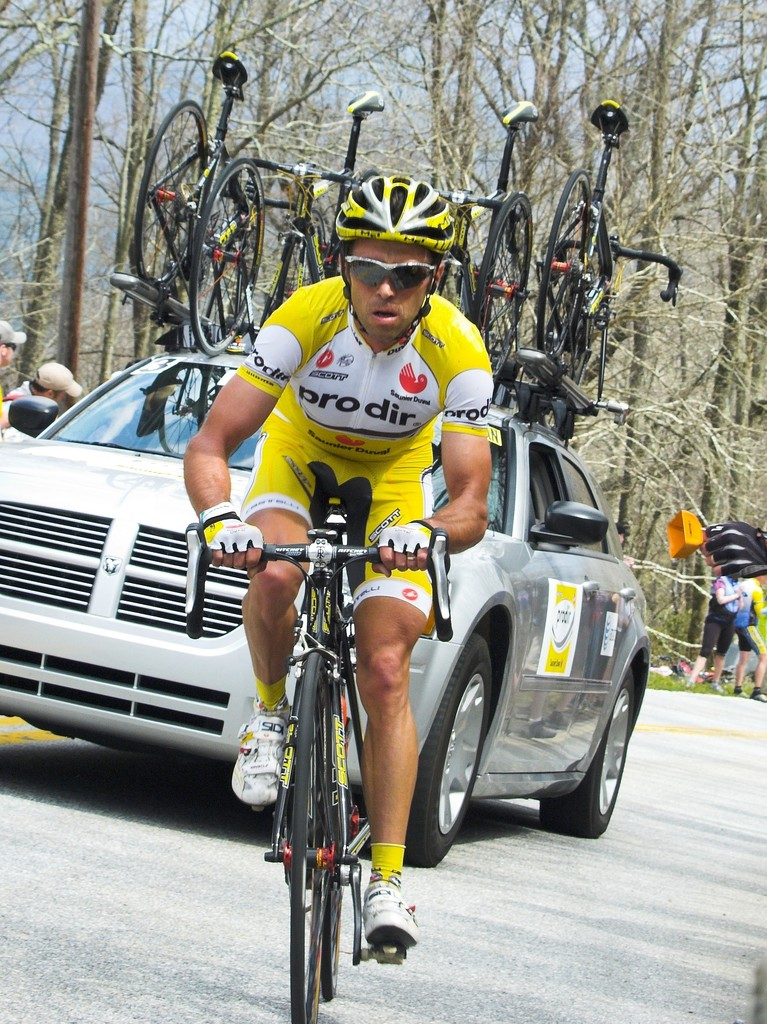Bike: (136, 539, 501, 972)
